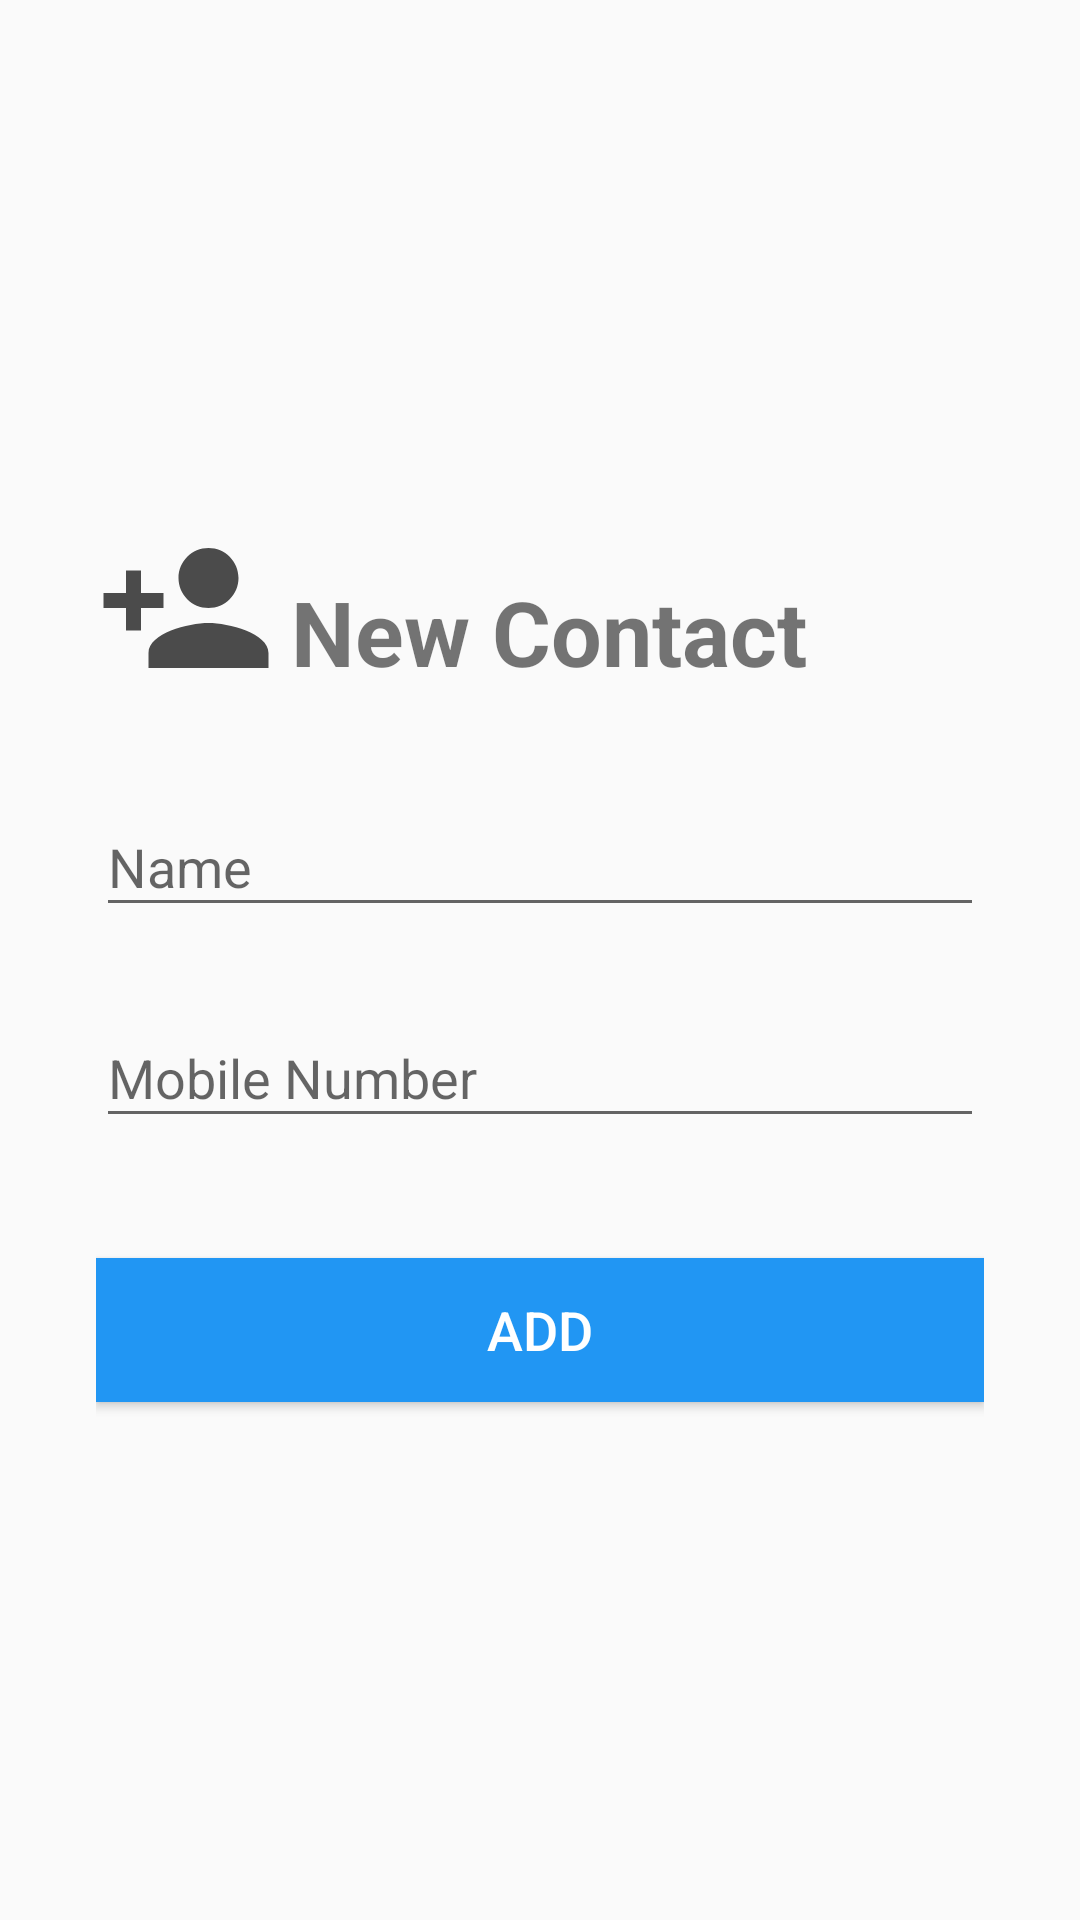

Icons on this 1080 × 1920 Android screen, each with its box as (x1, y1, x2, y2):
person add: (103, 548, 269, 668)
